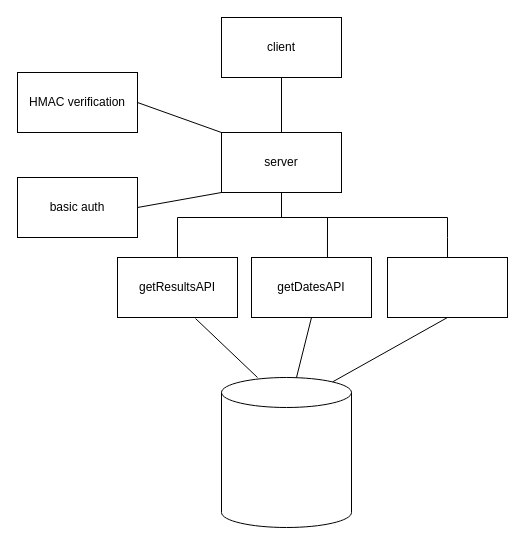
Some shapes in this 525 by 545 pixel diagram are drawn without their labels. Each missing label, with the box of its shape:
Baza wyników i terminów (zamockowana w formie tabeli w projekcie): (220, 376, 352, 528)
bookAppointmentAPI: (386, 256, 508, 318)
